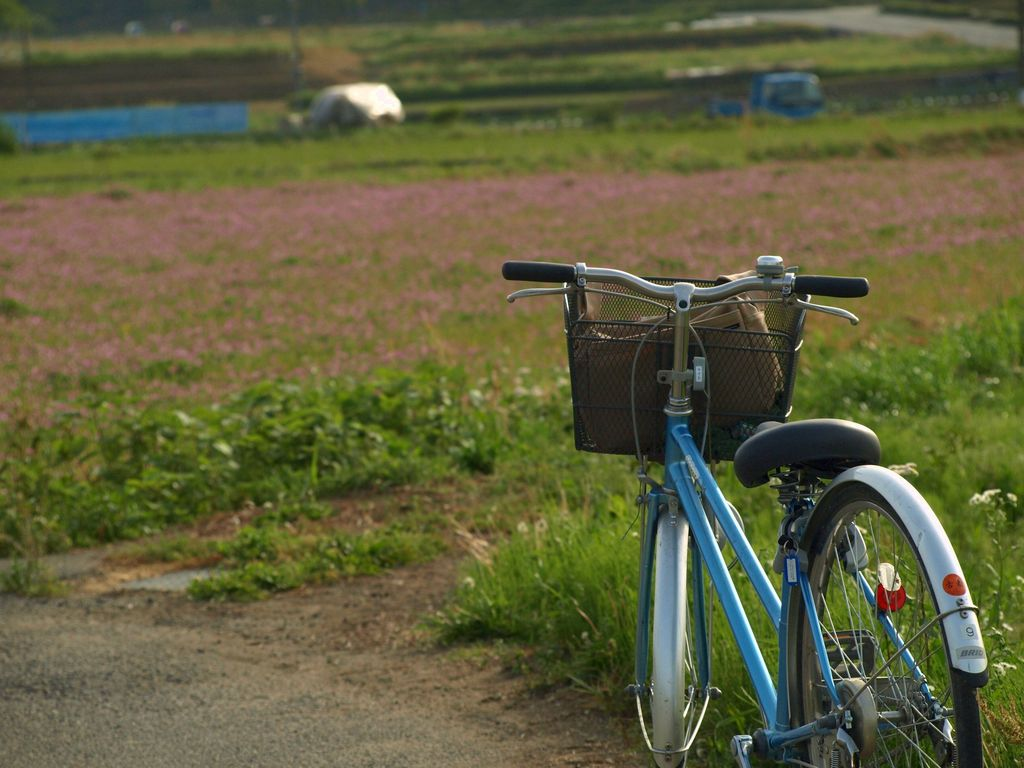Bike_away: (499, 256, 992, 767)
